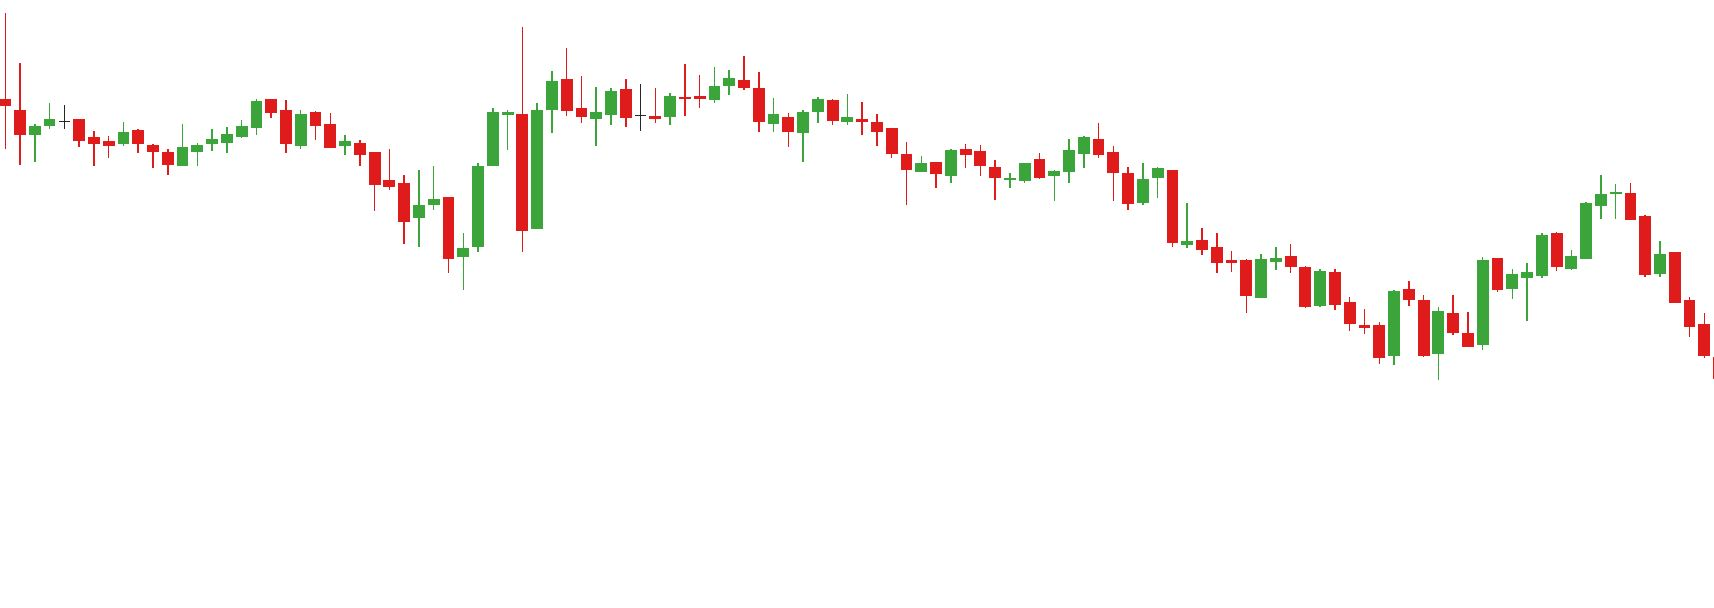buy: (1370, 308, 1446, 381)
sell: (959, 124, 1106, 183)
